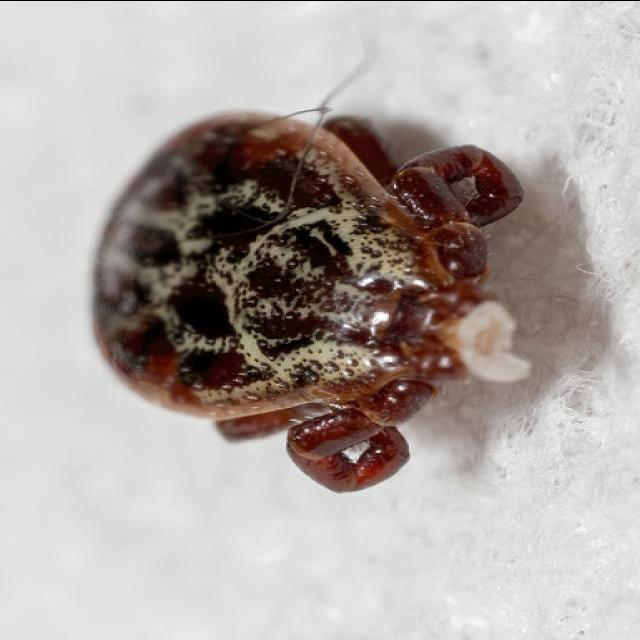Dermacentor Reticulatus-M: (90, 111, 525, 493)
